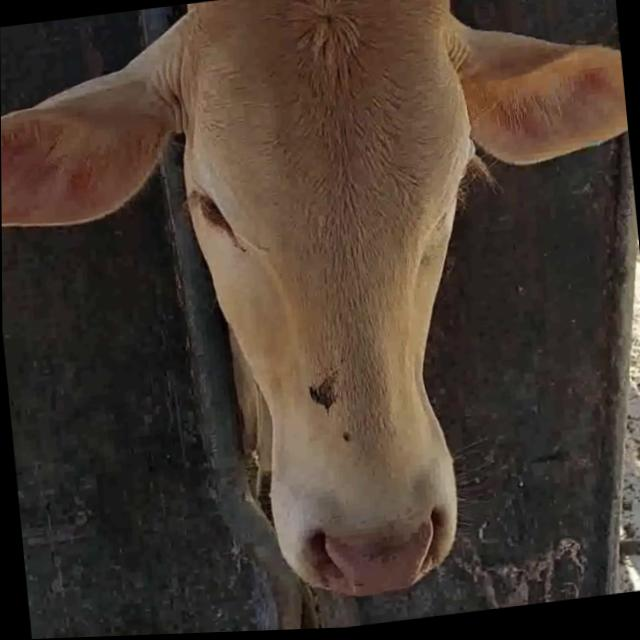cowFace: (170, 0, 513, 612)
